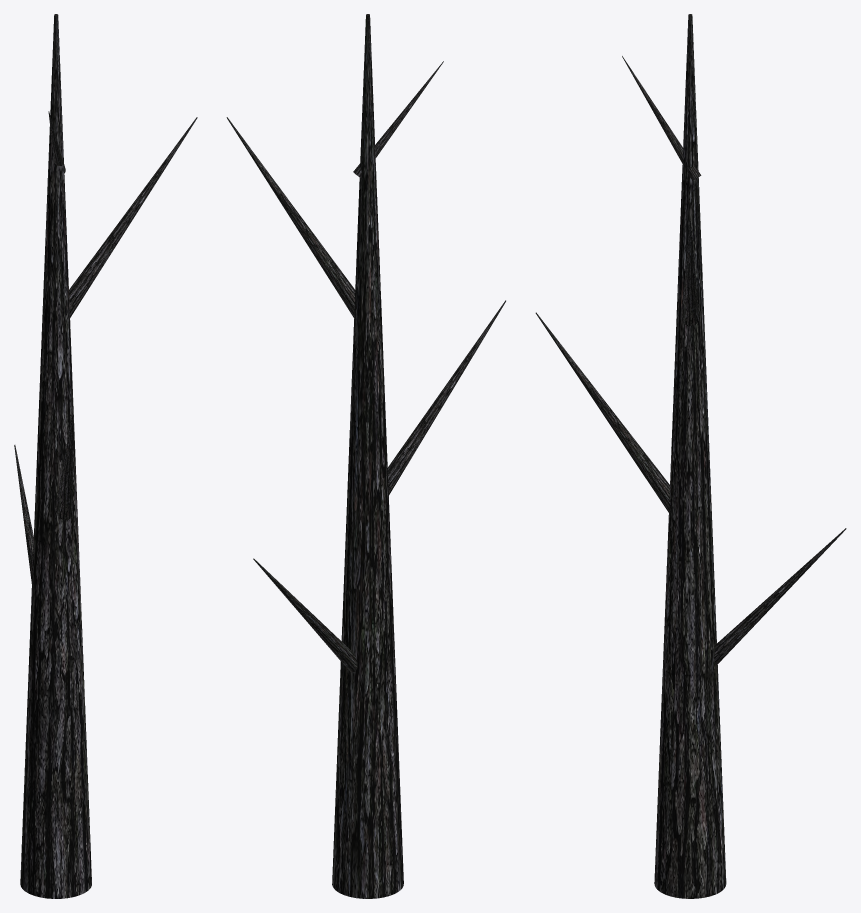
Rendered from spruce2.glb.
3 renders of one model, left to right at view 1: azimuth 30°, elevation 25°; view 2: azimuth 150°, elevation 25°; view 3: azimuth 270°, elevation 25°, orthographic.
Visible parts, largest first — view 1: Cylinder.col, Cylinder.001, Cylinder.002, Cylinder.003; view 2: Cylinder.col, Cylinder.001, Cylinder.002, Cylinder.003, Cylinder.004; view 3: Cylinder.col, Cylinder.002, Cylinder.003, Cylinder.001, Cylinder.004.
Part boxes in pixels (box(x1,y1,x2,y2)): Cylinder.col: box(20, 14, 91, 898); Cylinder.001: box(69, 117, 197, 317); Cylinder.002: box(56, 413, 73, 520); Cylinder.003: box(14, 445, 33, 583); Cylinder.col: box(332, 14, 403, 898); Cylinder.001: box(226, 117, 355, 317); Cylinder.002: box(387, 300, 505, 495); Cylinder.003: box(253, 558, 357, 672); Cylinder.004: box(353, 61, 443, 177); Cylinder.col: box(654, 14, 726, 898); Cylinder.002: box(535, 312, 670, 513); Cylinder.003: box(714, 528, 846, 665); Cylinder.001: box(681, 220, 699, 326); Cylinder.004: box(622, 56, 701, 180).
Bounding box in the file's own units: 5.85 × 23.98 × 7.78.
Materials: 5 (5 with a texture image).
